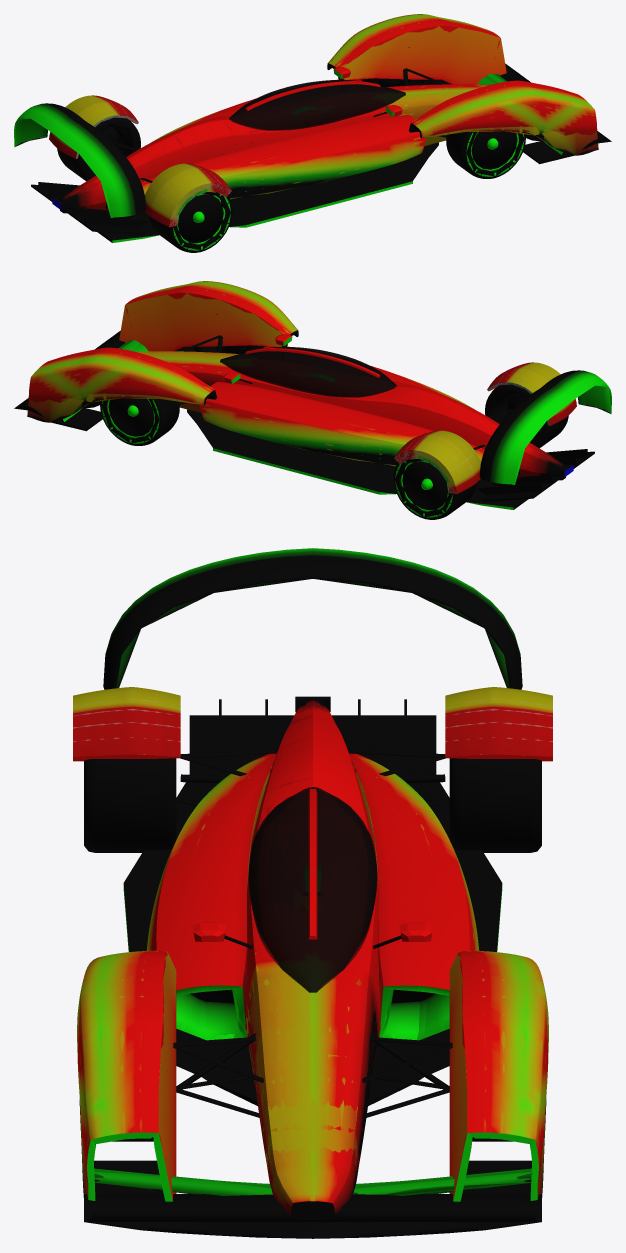
File: manta.glb
3 renders of one model, top to bottom at view 1: azimuth 30°, elevation 25°; view 2: azimuth 150°, elevation 25°; view 3: azimuth 270°, elevation 25°, orthographic. The views are drawn at different scales.
Parts seen in each view (by area): view 1: body_L0, body_L2, glass_L0, glass_L1, body_L1, wheel_RR_L2, wheel_FR_L2, glass_L2, wheel_FR_L0, wheel_RL_L0, wheel_RR_L0, wheel_RL_L2 (+2 smaller); view 2: body_L0, body_L2, glass_L0, glass_L1, body_L1, wheel_RL_L2, wheel_FL_L2, glass_L2, wheel_FL_L0, wheel_RR_L0, wheel_RL_L0, wheel_RR_L2 (+3 smaller); view 3: body_L0, body_L2, glass_L0, glass_L1, body_L1, wheel_RR_L0, wheel_RL_L0, glass_L2.
Part boxes in pixels (x1,y1,x2,y2): body_L0: [14, 14, 611, 242]; body_L2: [14, 26, 609, 225]; glass_L0: [228, 79, 405, 130]; glass_L1: [229, 80, 405, 130]; body_L1: [14, 15, 609, 226]; wheel_RR_L2: [173, 192, 230, 250]; wheel_FR_L2: [466, 131, 524, 176]; glass_L2: [232, 81, 403, 117]; wheel_FR_L0: [446, 132, 525, 178]; wheel_RL_L0: [57, 117, 140, 181]; wheel_RR_L0: [148, 193, 232, 252]; wheel_RL_L2: [81, 122, 139, 178]; body_L0: [14, 281, 611, 509]; body_L2: [16, 293, 611, 492]; glass_L0: [220, 346, 396, 397]; glass_L1: [220, 347, 396, 396]; body_L1: [15, 282, 611, 493]; wheel_RL_L2: [395, 459, 452, 517]; wheel_FL_L2: [101, 398, 159, 443]; glass_L2: [222, 348, 393, 384]; wheel_FL_L0: [100, 399, 179, 445]; wheel_RR_L0: [485, 384, 568, 448]; wheel_RL_L0: [393, 460, 477, 519]; wheel_RR_L2: [486, 389, 544, 445]; body_L0: [73, 548, 552, 1238]; body_L2: [73, 579, 552, 1221]; glass_L0: [248, 787, 377, 992]; glass_L1: [249, 787, 376, 992]; body_L1: [73, 579, 552, 1238]; wheel_RR_L0: [84, 758, 176, 852]; wheel_RL_L0: [449, 758, 541, 852]; glass_L2: [250, 797, 375, 992].
Bounding box in the file's own units: 5.37 × 1.1 × 2.18.
